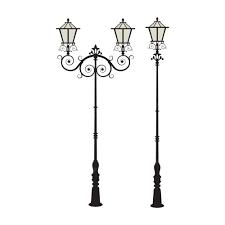Lamp: (53, 13, 137, 212), (142, 14, 172, 211)
